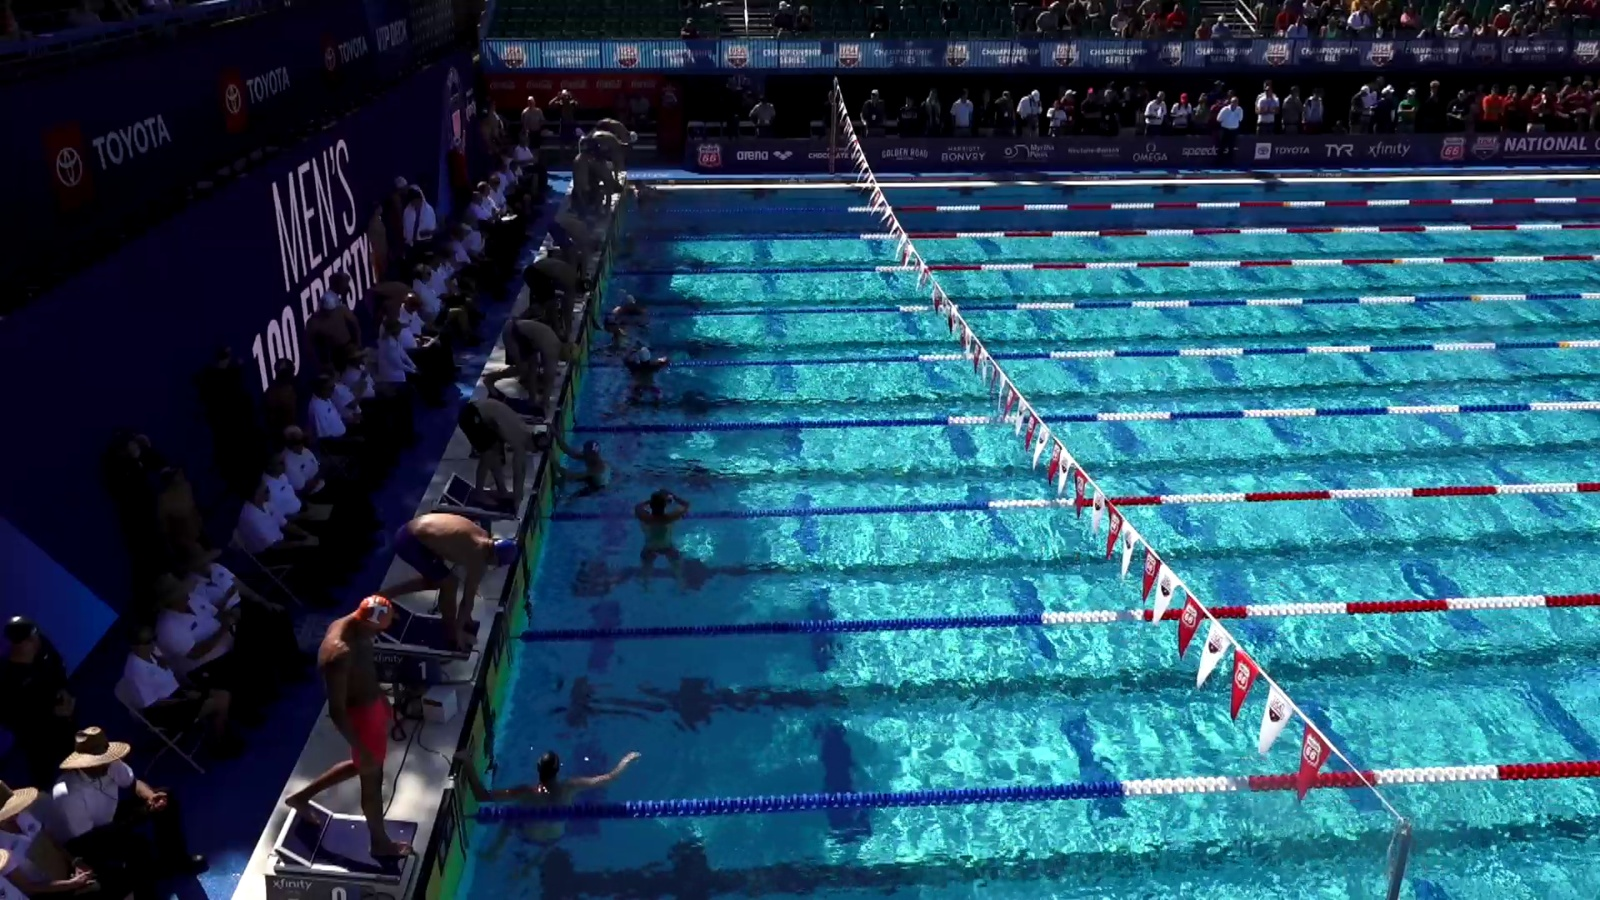swimmerw: (287, 595, 410, 856), (478, 749, 645, 869), (382, 514, 519, 623), (454, 402, 555, 510), (638, 488, 699, 596), (490, 322, 579, 392), (519, 258, 595, 320), (560, 434, 616, 505), (579, 131, 636, 184), (625, 348, 670, 414), (549, 216, 610, 265), (570, 141, 603, 216), (593, 118, 635, 166), (610, 292, 649, 343), (635, 180, 668, 216)
